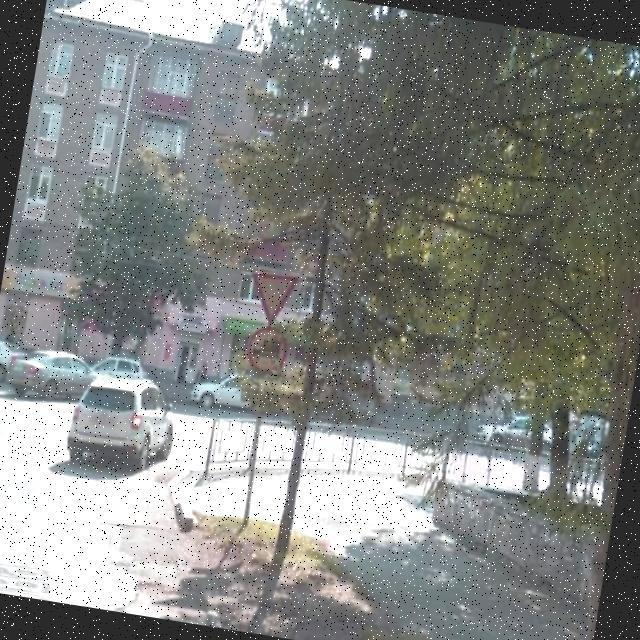Ustap pierwszenstwa: (242, 264, 302, 330)
